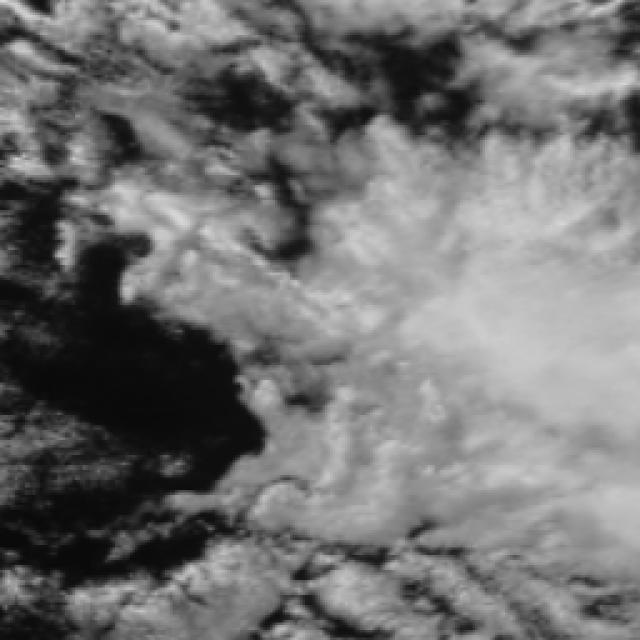CB: (445, 227, 640, 481)
